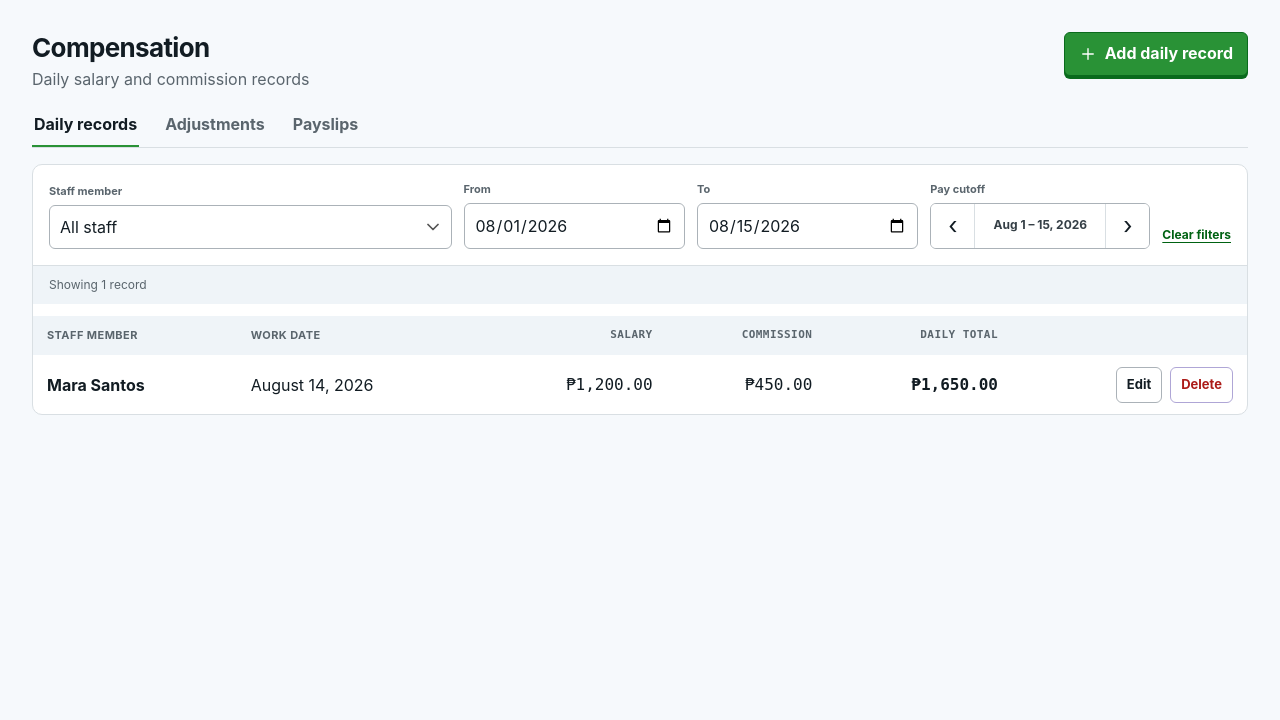
Test: CompensationPage › steps both directions in adjustments without changing the staff filter
The width and height of the screenshot is (1280, 720).
Click the button "Adjustments".
click(215, 125)  # box [163,103,267,147]
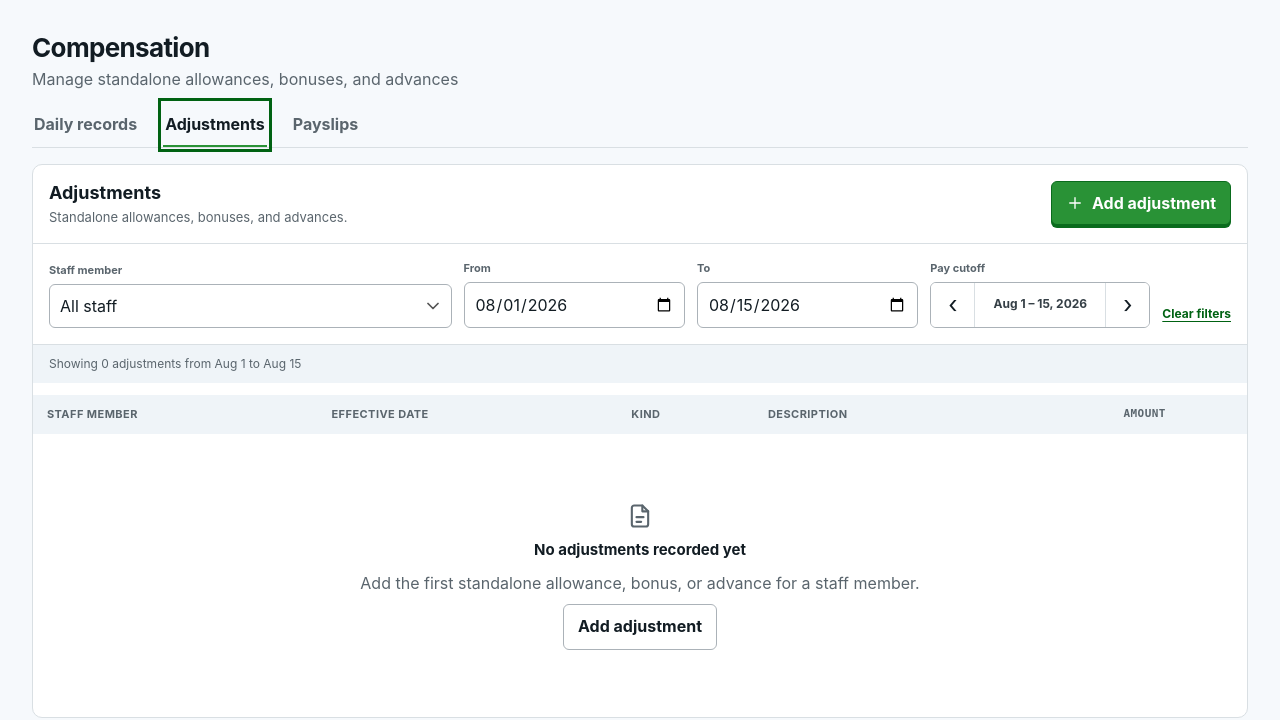
Select "Mara Santos" in the dropdown labelled "Staff member" at (250, 306), box [49,284,452,328]
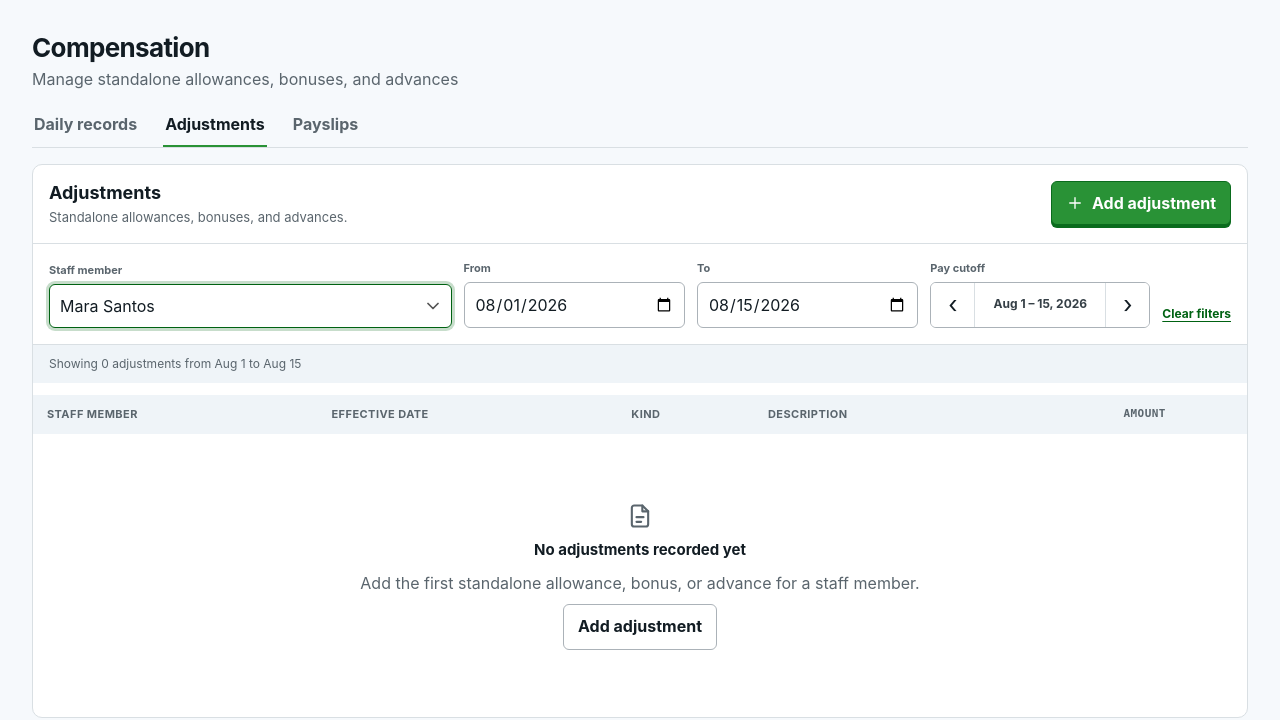
Click the button named "Previous cutoff".
click(953, 305)  # box [931,283,975,327]
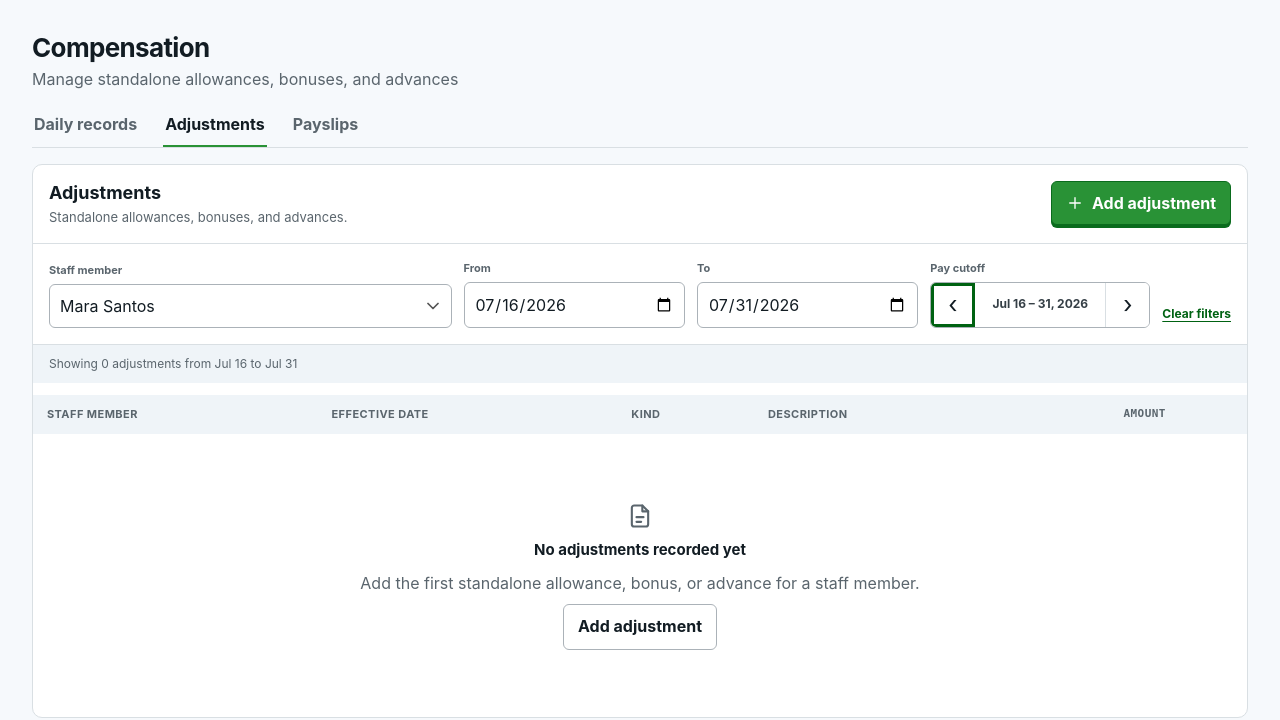
Check: the date field labelled "From" holds "2026-07-16", box [464,282,685,328]
Check: the date field labelled "To" holds "2026-07-31", box [697,282,918,328]
Click the button named "Next cutoff".
click(1127, 305)  # box [1105,283,1149,327]
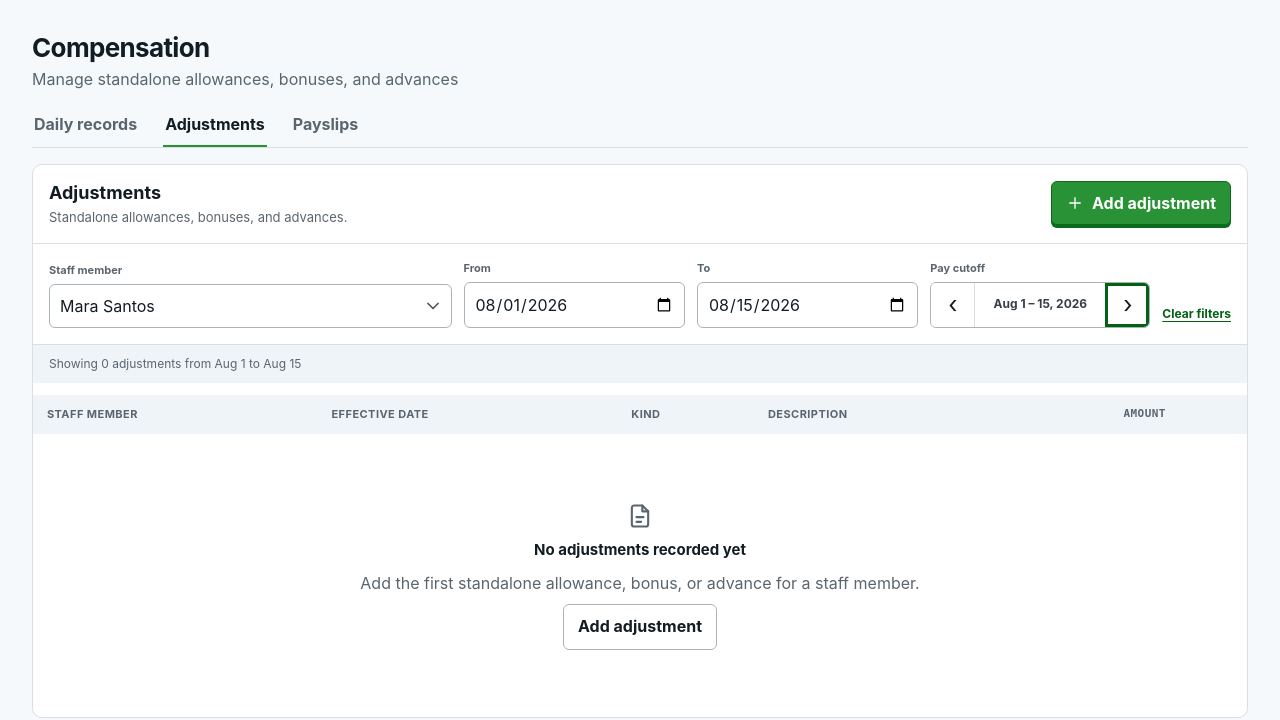
Check: the date field labelled "From" holds "2026-08-01", box [464,282,685,328]
Check: the date field labelled "To" holds "2026-08-15", box [697,282,918,328]
